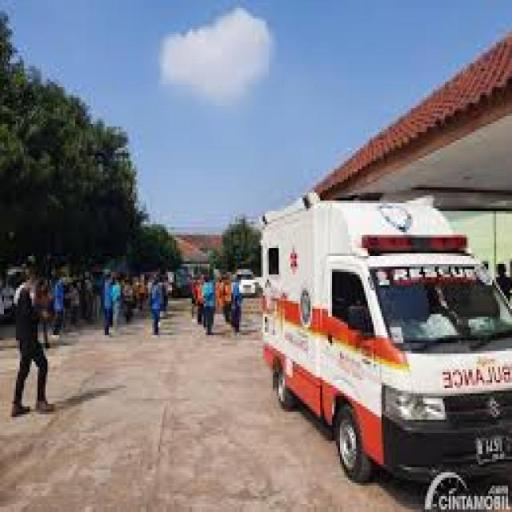Police car: (259, 190, 510, 491)
